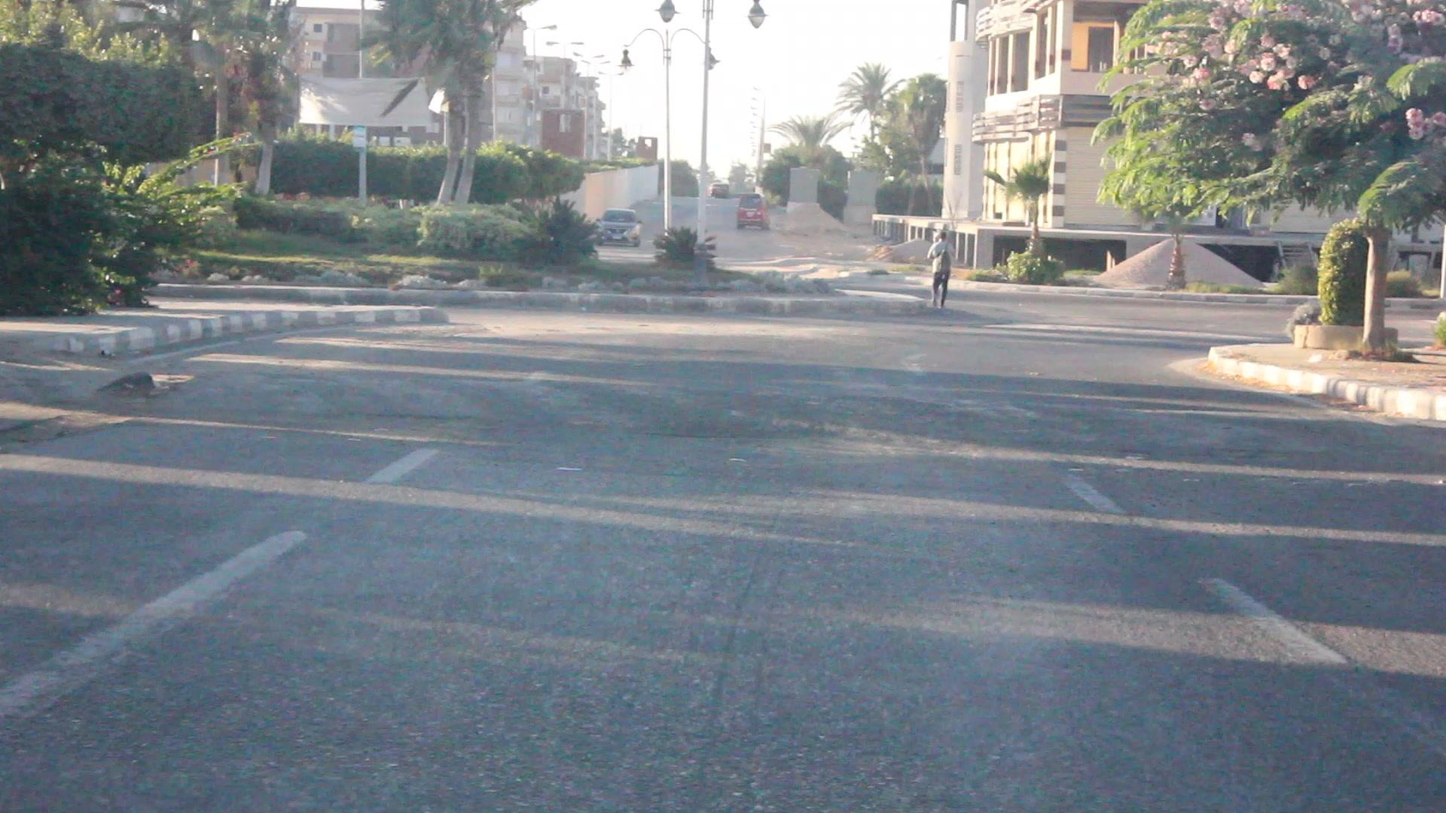Bump: (205, 352, 1260, 440)
